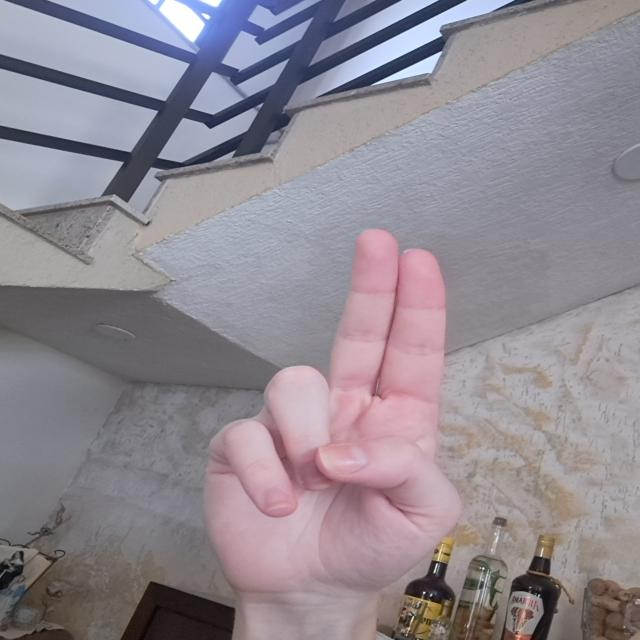U: (188, 227, 471, 604)
